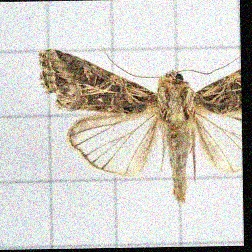Spodoptera litura: (37, 44, 241, 205)
